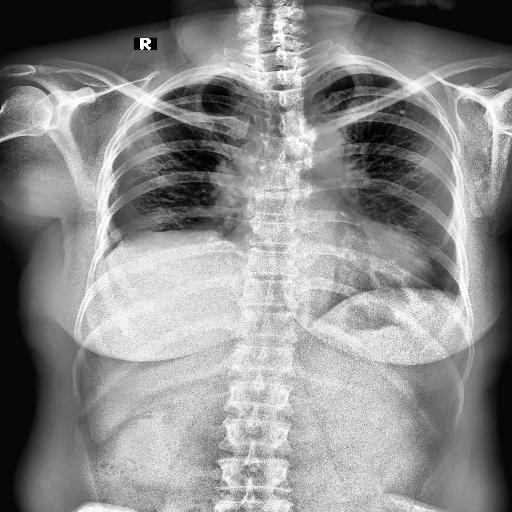0- Aortic enlargement: (288, 118, 346, 172), (298, 122, 344, 172)
13- Pulmonary fibrosis: (168, 88, 186, 102)
3- Cardiomegaly: (220, 224, 430, 305), (224, 232, 438, 297), (222, 227, 438, 288)
8- Nodule-Mass: (399, 109, 405, 114)
